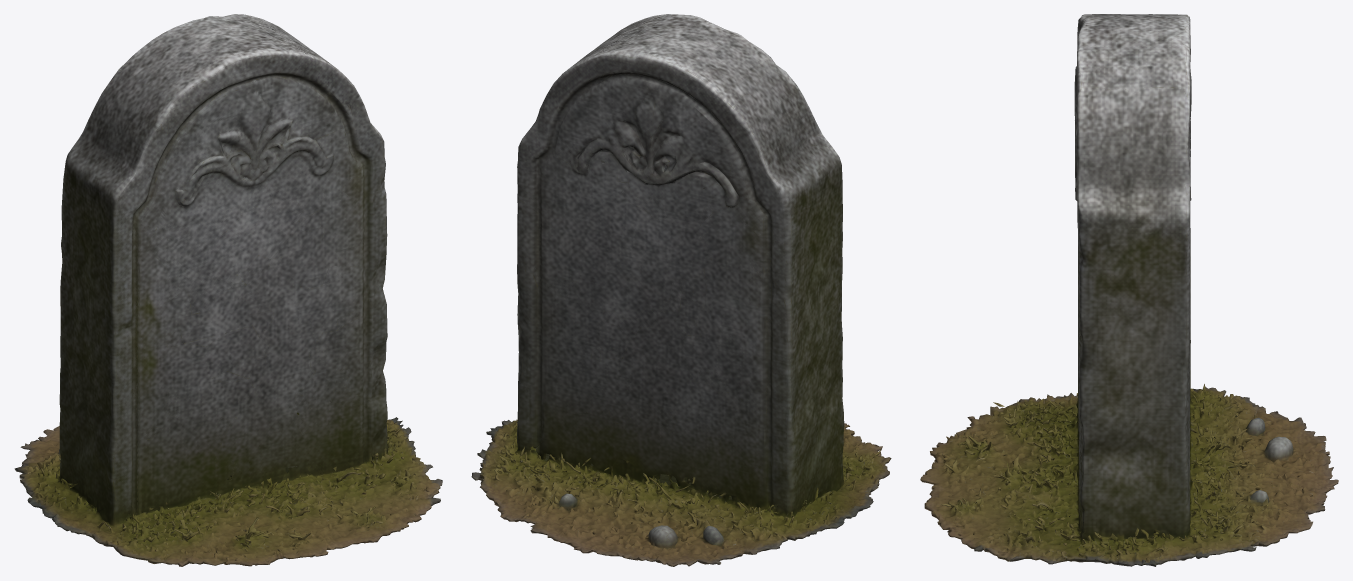
File: grave_01_classic_rounded_granite.glb
3 views of the same model, side by side, from view 1: azimuth 30°, elevation 25°; view 2: azimuth 150°, elevation 25°; view 3: azimuth 270°, elevation 25° (orthographic). The views are drawn at different scales.
Visible parts, largest first — view 1: world; view 2: world; view 3: world.
Part boxes in pixels (x1,y1,x2,y2): world: (14, 14, 442, 566); world: (471, 14, 891, 566); world: (920, 14, 1338, 566).
Bounding box in the file's own units: 0.85 × 1 × 0.823.
Materials: 1 (1 with a texture image).
